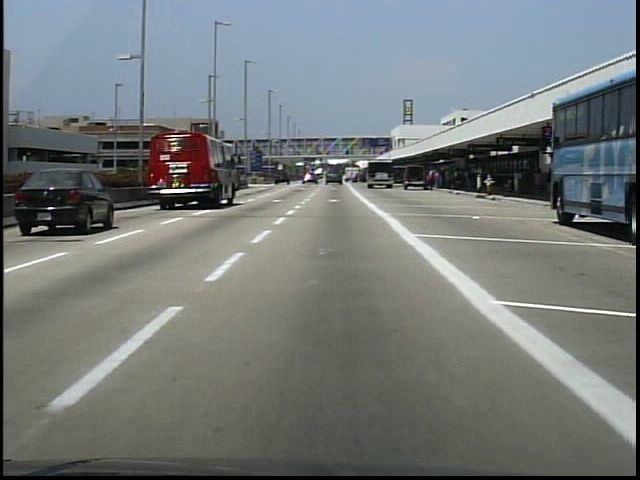person: (429, 174, 437, 196)
